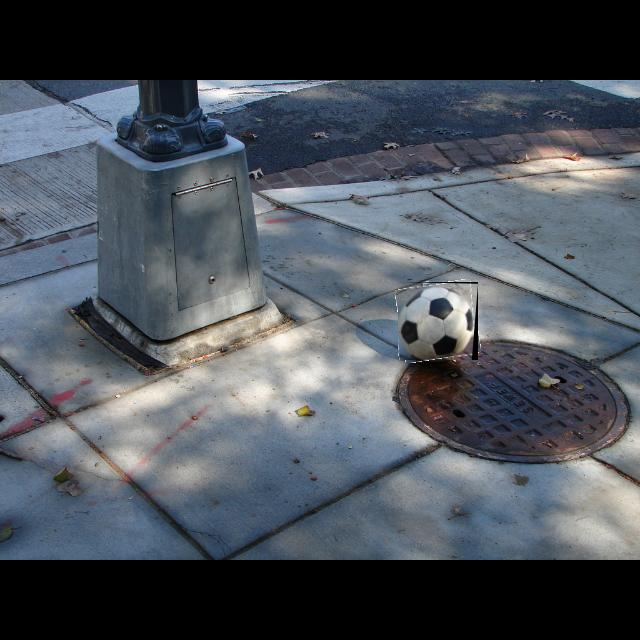Football: (398, 282, 478, 360)
